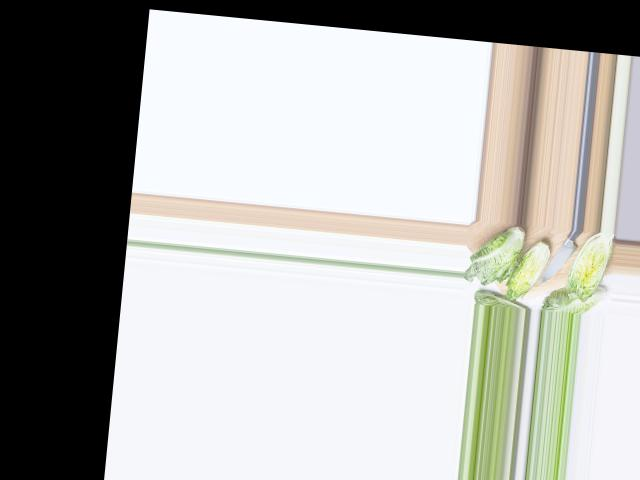lettuce: (542, 281, 606, 313)
